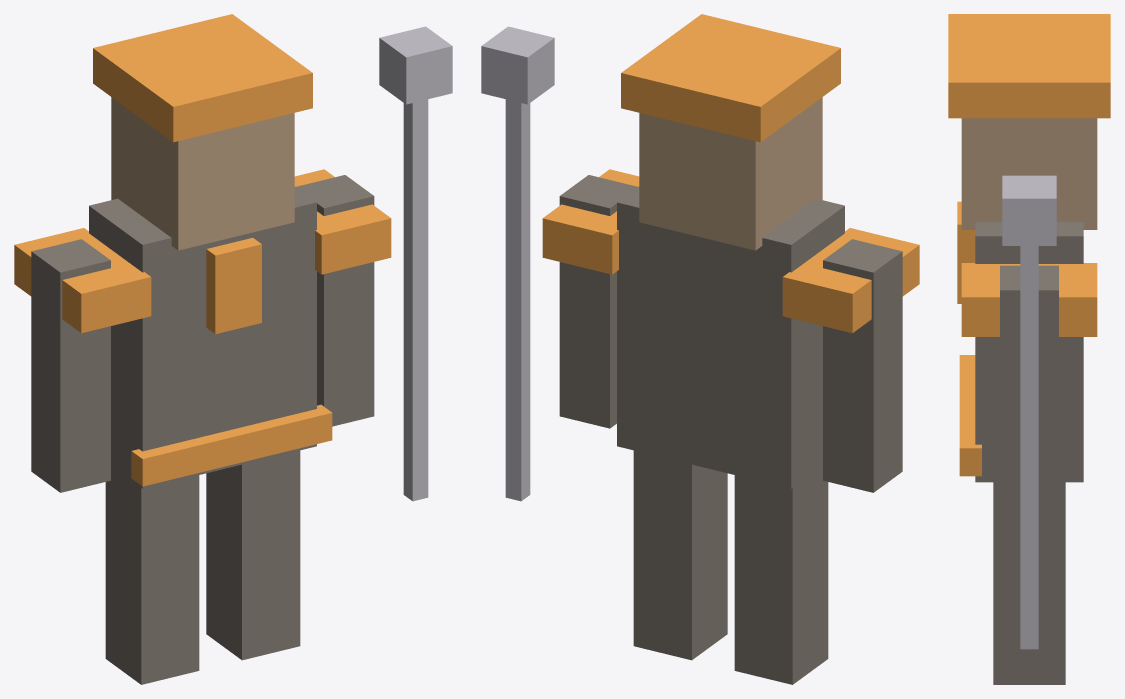
The model's file is 02_asha_skyharrow_watcher_at_sculpture.glb.
The picture shows the model from 3 angles, left to right: view 1: azimuth 30°, elevation 25°; view 2: azimuth 150°, elevation 25°; view 3: azimuth 270°, elevation 25°; orthographic projection.
Parts seen in each view (by area): view 1: Asha Skyharrow, Watcher at Sculpture; view 2: Asha Skyharrow, Watcher at Sculpture; view 3: Asha Skyharrow, Watcher at Sculpture.
Boxes of the visible parts, x1,y1,x2,y2 form: Asha Skyharrow, Watcher at Sculpture: [14, 14, 452, 684]; Asha Skyharrow, Watcher at Sculpture: [481, 14, 919, 684]; Asha Skyharrow, Watcher at Sculpture: [948, 14, 1110, 684].
Bounding box in the file's own units: 1.04 × 1.5 × 0.3692.
